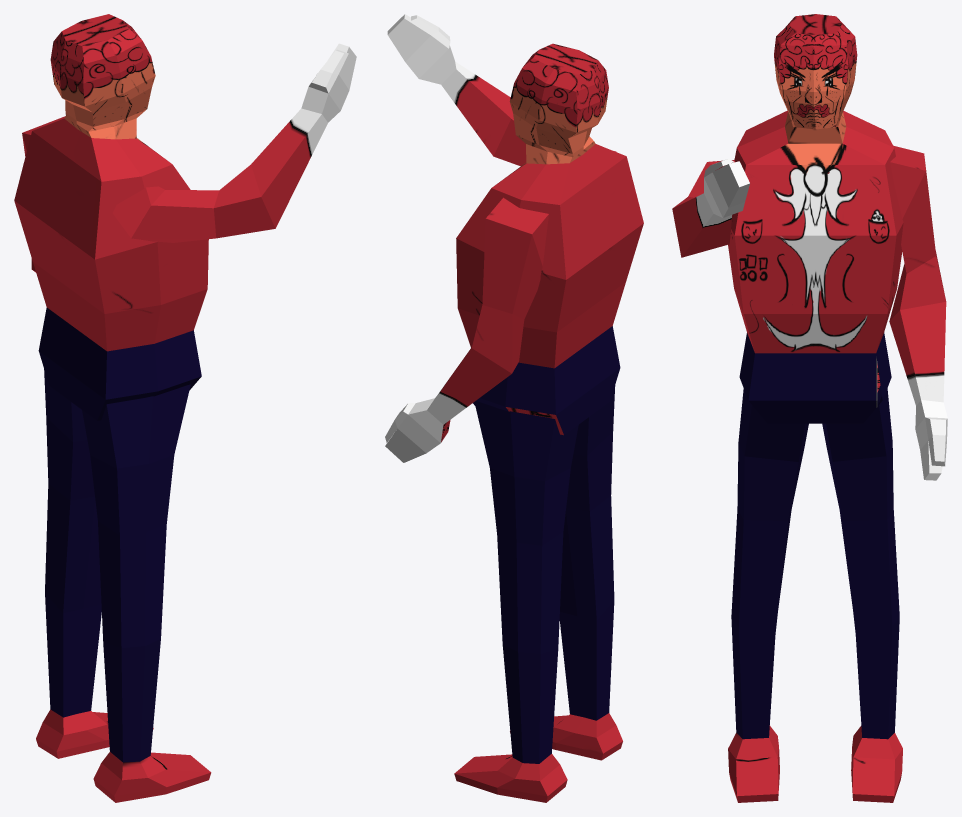
File: BrasDroitLeve.fbx
The picture shows the model from 3 angles, left to right: view 1: azimuth 30°, elevation 25°; view 2: azimuth 150°, elevation 25°; view 3: azimuth 270°, elevation 25°; orthographic projection. The views are drawn at different scales.
Parts seen in each view (by area): view 1: Cube.001; view 2: Cube.001; view 3: Cube.001.
Part boxes in pixels (x1=…): Cube.001: x1=14, y1=14, x2=356, y2=802; Cube.001: x1=385, y1=14, x2=643, y2=802; Cube.001: x1=672, y1=14, x2=947, y2=802.
Bounding box in the file's own units: 164 × 442 × 148.
